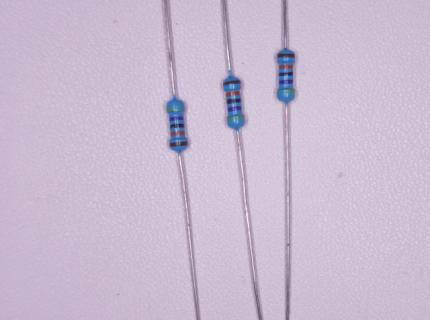Black band: (170, 122, 185, 128), (226, 99, 240, 104), (279, 72, 293, 76)
Brown band: (169, 140, 187, 148), (223, 79, 242, 85), (276, 53, 295, 58)
Orange band: (226, 91, 241, 97), (279, 64, 293, 69), (171, 131, 184, 136)
Violet band: (228, 106, 242, 112), (170, 116, 184, 121), (280, 80, 293, 85)
Yellow band: (227, 114, 245, 122), (166, 106, 184, 111), (277, 89, 295, 93)
